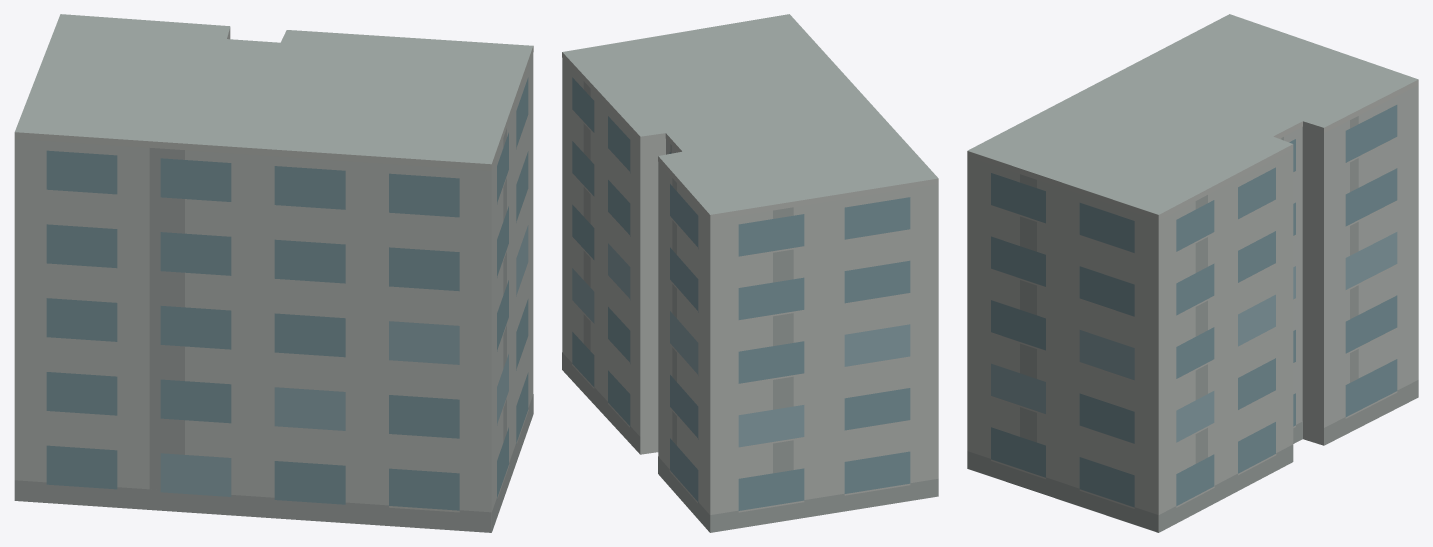
Rendered from survey-upis-32867576.glb.
The picture shows the model from 3 angles, left to right: view 1: azimuth 30°, elevation 25°; view 2: azimuth 150°, elevation 25°; view 3: azimuth 270°, elevation 25°; orthographic projection. The views are drawn at different scales.
Visible parts, largest first — view 1: survey-upis-32867576.tmp; view 2: survey-upis-32867576.tmp; view 3: survey-upis-32867576.tmp.
Boxes of the visible parts, box(x1,y1,x2,y2) form: survey-upis-32867576.tmp: box(14, 14, 533, 532); survey-upis-32867576.tmp: box(562, 14, 938, 532); survey-upis-32867576.tmp: box(967, 14, 1418, 532).
Bounding box in the file's own units: 18.58 × 13.7 × 17.64.
